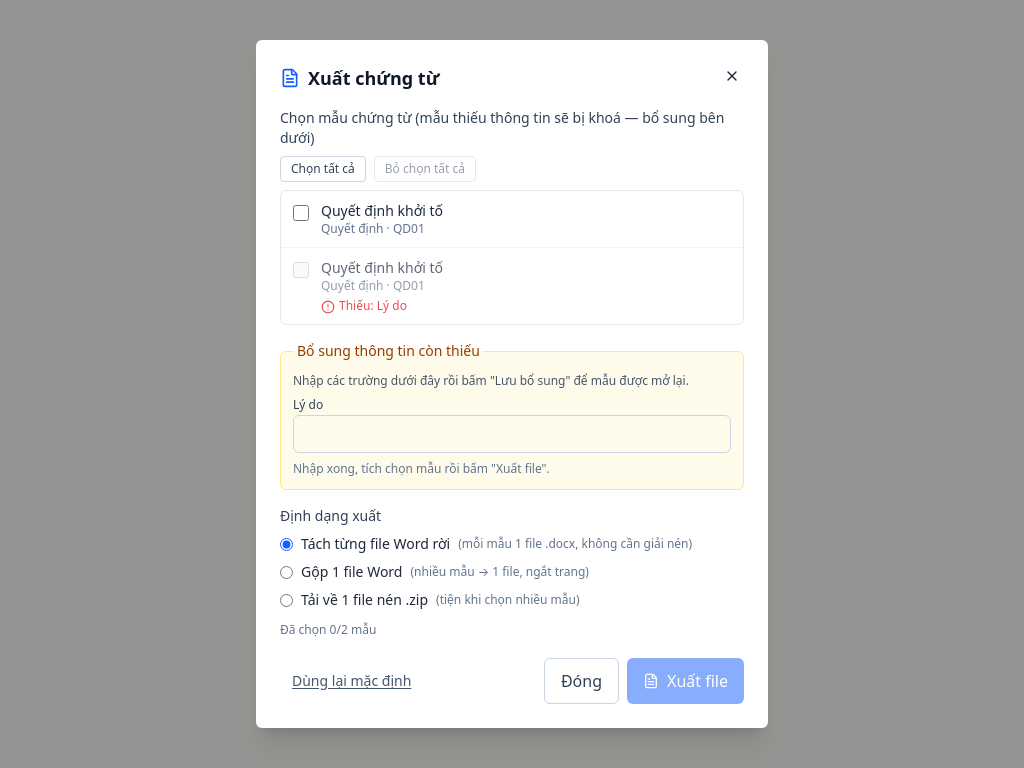
Chọn tất cả / Bỏ chọn tất cả › Chọn tất cả BỎ QUA mẫu thiếu thông tin
Expected: the checkbox with test id "dyn-export-checkbox-t1" is shown, [293,205,309,221]
Click the button with test id "dyn-export-select-all".
click(323, 169)  # box [280,156,366,182]
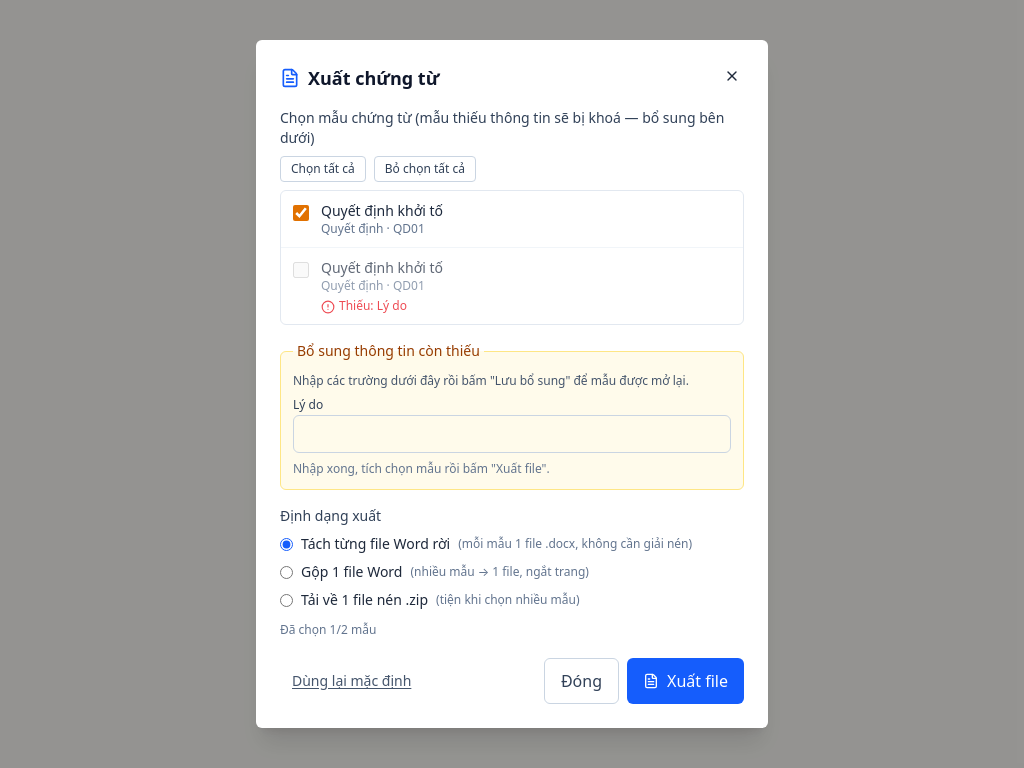
Now the checkbox with test id "dyn-export-checkbox-t1" is checked, box [293,205,309,221]
